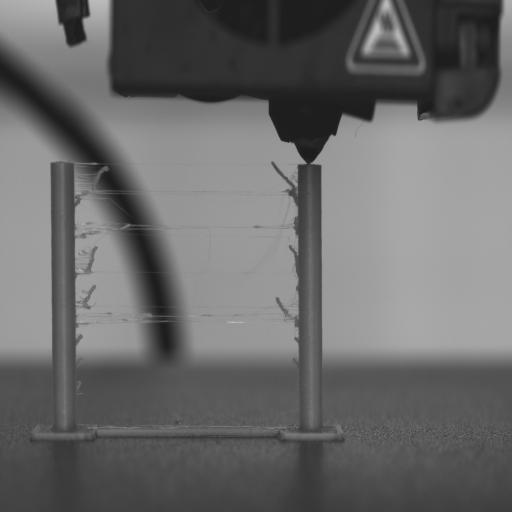spaghetti_and_stringing: (74, 164, 108, 201), (77, 220, 150, 236), (270, 161, 298, 192), (76, 313, 144, 324), (78, 244, 98, 274), (276, 296, 298, 321), (76, 285, 97, 310), (254, 223, 299, 230), (288, 244, 298, 264), (75, 333, 83, 347), (74, 194, 82, 208), (292, 358, 300, 370), (75, 232, 88, 239), (76, 357, 83, 369), (76, 380, 82, 393), (78, 248, 86, 256), (294, 331, 299, 342), (200, 314, 212, 318), (296, 382, 300, 392), (75, 323, 80, 330)
